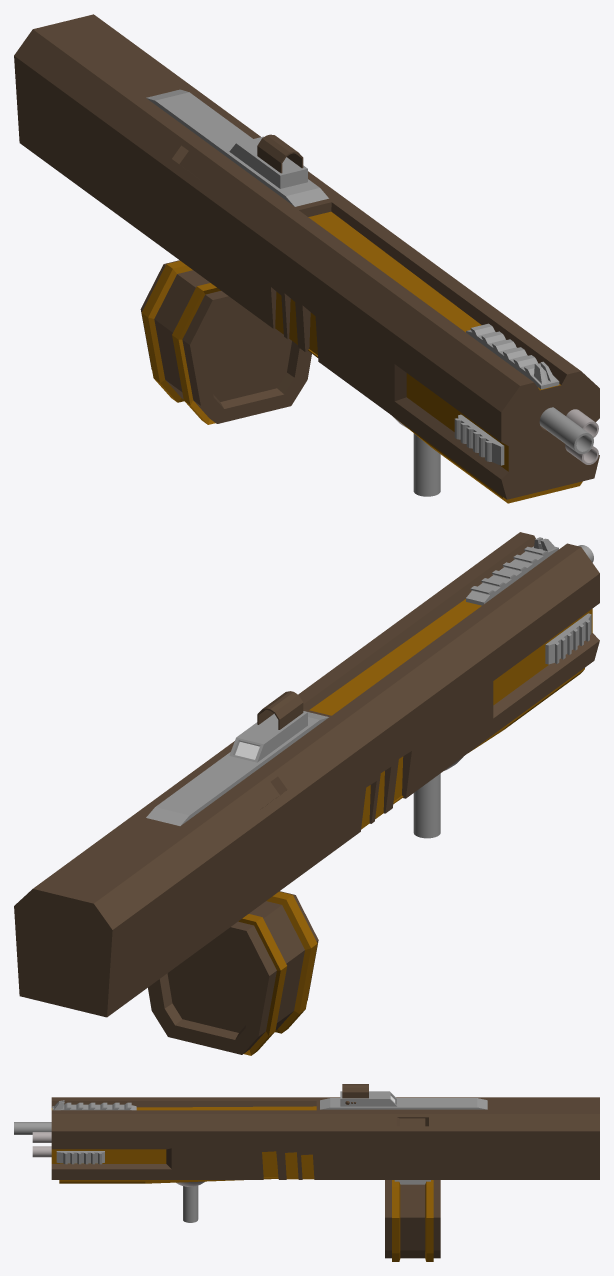
File: gun3.fbx
3 views of the same model, one above another, from view 1: azimuth 30°, elevation 25°; view 2: azimuth 150°, elevation 25°; view 3: azimuth 270°, elevation 25° (orthographic). The views are drawn at different scales.
Parts seen in each view (by area): view 1: Cube.002; view 2: Cube.002; view 3: Cube.002.
Boxes of the visible parts, x1,y1,x2,y2 form: Cube.002: (14,14,599,503); Cube.002: (14,532,599,1055); Cube.002: (14,1084,599,1261).
Bounding box in the file's own units: 9.16 × 18.59 × 59.43.
